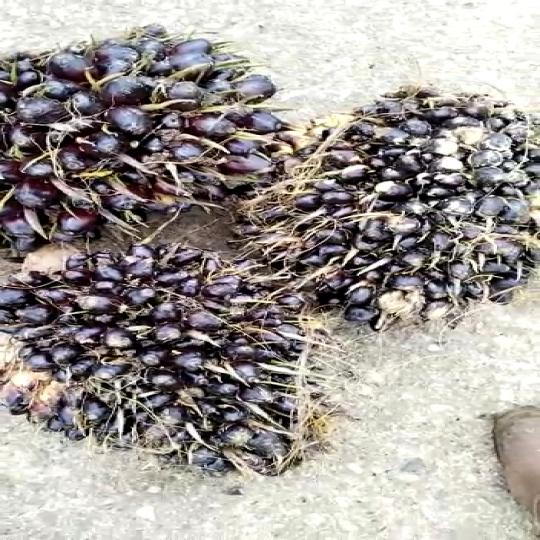mentah: (252, 70, 540, 355), (0, 237, 333, 470), (0, 26, 297, 265)
